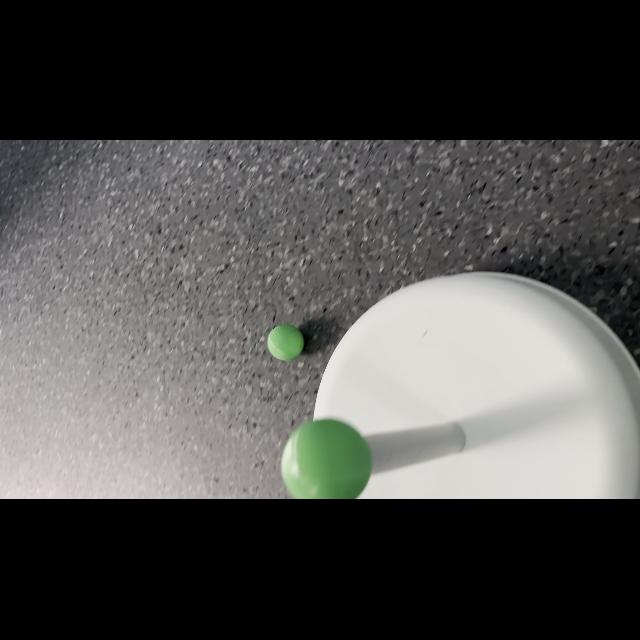objects: (274, 414, 374, 500), (264, 321, 308, 364)
